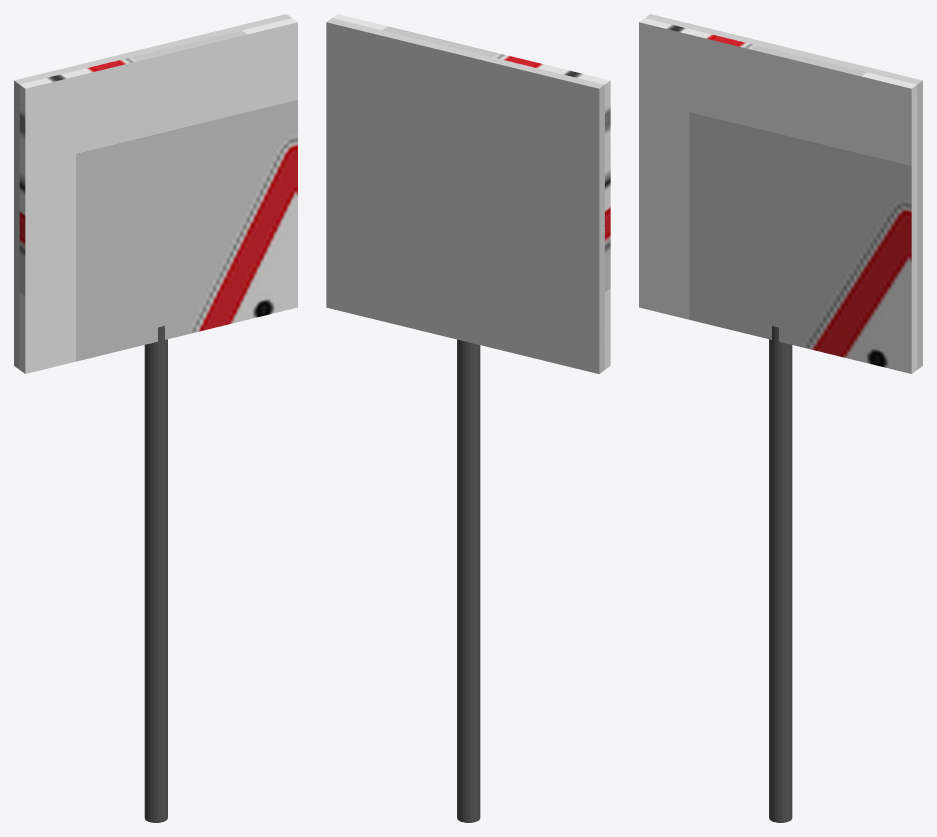
Rendered from teknofest_sign_okul_gecidi.fbx.
3 views of the same model, side by side, from view 1: azimuth 30°, elevation 25°; view 2: azimuth 150°, elevation 25°; view 3: azimuth 330°, elevation 25° (orthographic).
Parts seen in each view (by area): view 1: teknofest_sign_okul_gecidi_board, teknofest_sign_okul_gecidi_pole, teknofest_sign_okul_gecidi_back; view 2: teknofest_sign_okul_gecidi_back, teknofest_sign_okul_gecidi_pole, teknofest_sign_okul_gecidi_board; view 3: teknofest_sign_okul_gecidi_board, teknofest_sign_okul_gecidi_pole, teknofest_sign_okul_gecidi_back.
Part boxes in pixels (x1,y1,x2,y2): teknofest_sign_okul_gecidi_board: (19, 18, 297, 373); teknofest_sign_okul_gecidi_pole: (144, 325, 167, 822); teknofest_sign_okul_gecidi_back: (14, 14, 291, 369); teknofest_sign_okul_gecidi_back: (326, 18, 604, 373); teknofest_sign_okul_gecidi_pole: (457, 339, 480, 822); teknofest_sign_okul_gecidi_board: (333, 14, 610, 369); teknofest_sign_okul_gecidi_board: (639, 18, 917, 373); teknofest_sign_okul_gecidi_pole: (769, 325, 792, 822); teknofest_sign_okul_gecidi_back: (645, 14, 922, 369).
Bounding box in the file's own units: 95 × 255 × 7.05.
Materials: 3 (1 with a texture image).
